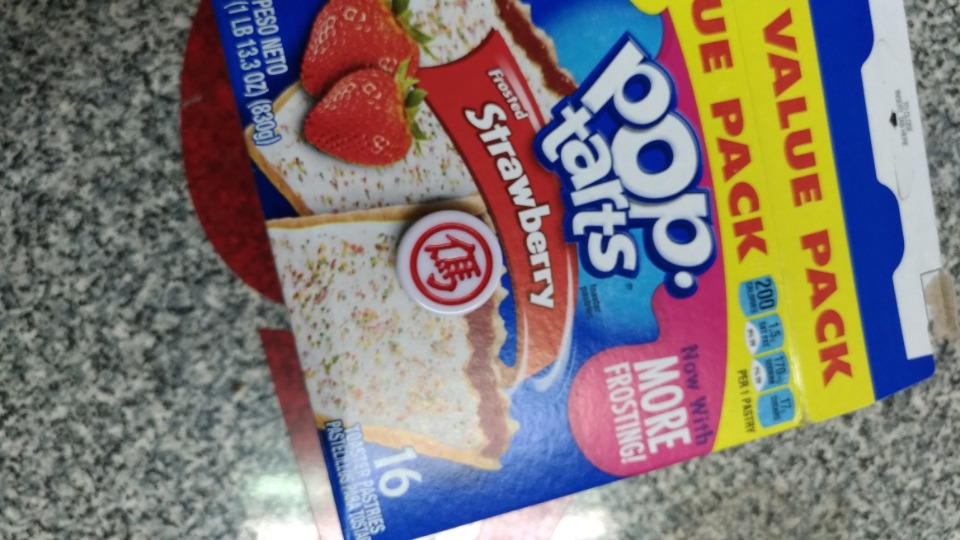r-knight: (382, 200, 517, 324)
